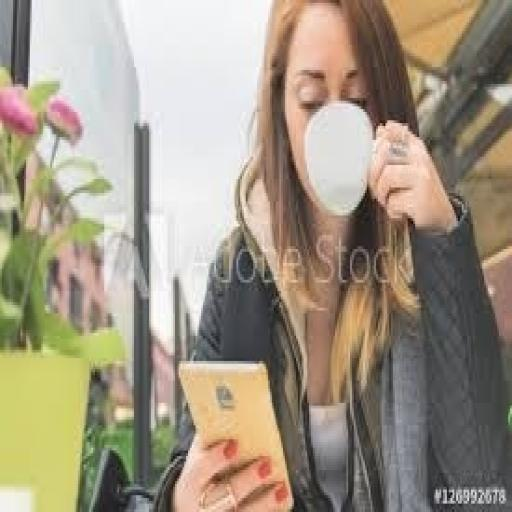texting: (153, 0, 510, 509)
